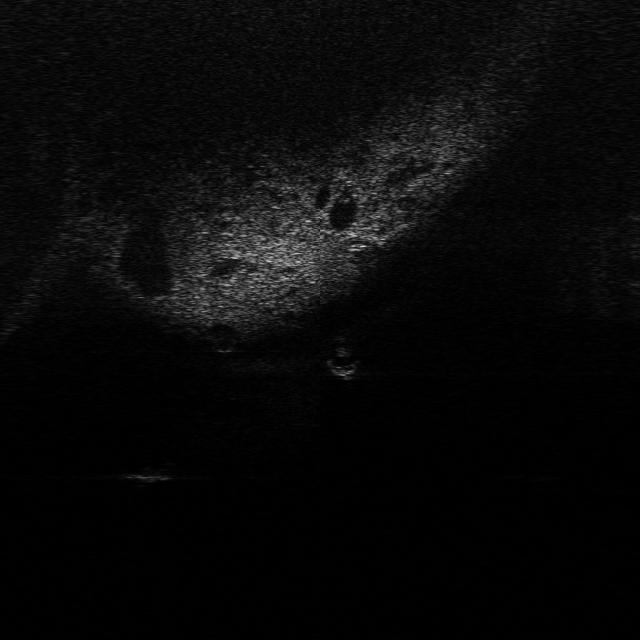ball: (323, 346, 362, 380)
cube: (124, 462, 174, 484)
